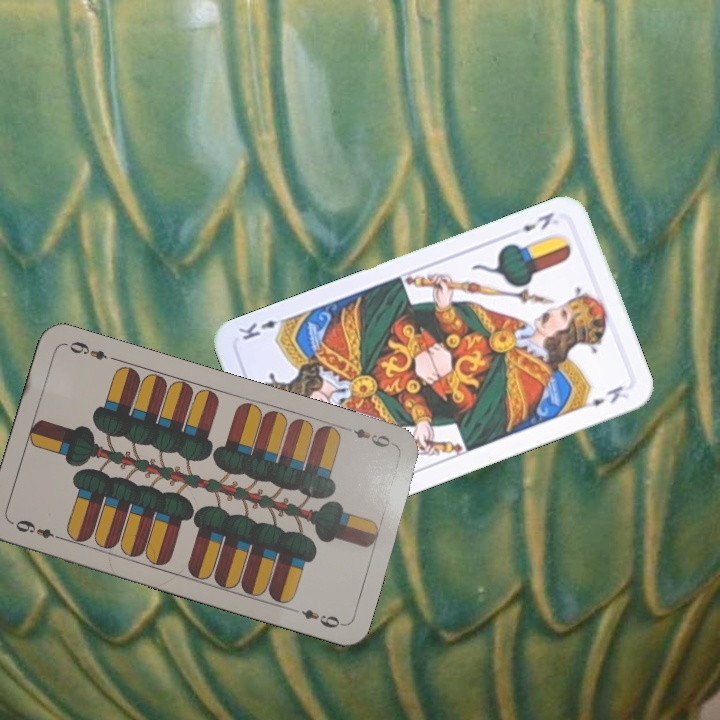E9: (11, 515, 66, 543), (349, 424, 398, 450)
EK: (518, 208, 557, 234)
